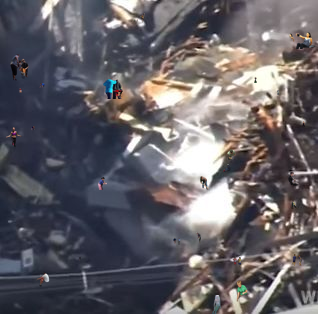Human: (103, 76, 126, 99), (286, 32, 317, 49), (10, 54, 29, 81), (5, 127, 22, 147), (236, 280, 248, 302), (36, 269, 50, 287), (212, 295, 221, 314), (288, 171, 299, 186), (200, 176, 209, 191), (227, 149, 236, 163), (232, 256, 243, 267), (292, 254, 302, 266), (98, 177, 107, 190), (223, 164, 231, 173), (173, 237, 181, 245), (196, 232, 201, 244), (140, 13, 145, 23), (291, 201, 297, 209), (39, 83, 46, 88), (254, 76, 257, 83), (131, 19, 138, 22), (31, 126, 35, 131), (302, 121, 305, 127), (19, 88, 22, 93), (277, 90, 280, 95), (79, 256, 81, 261)
